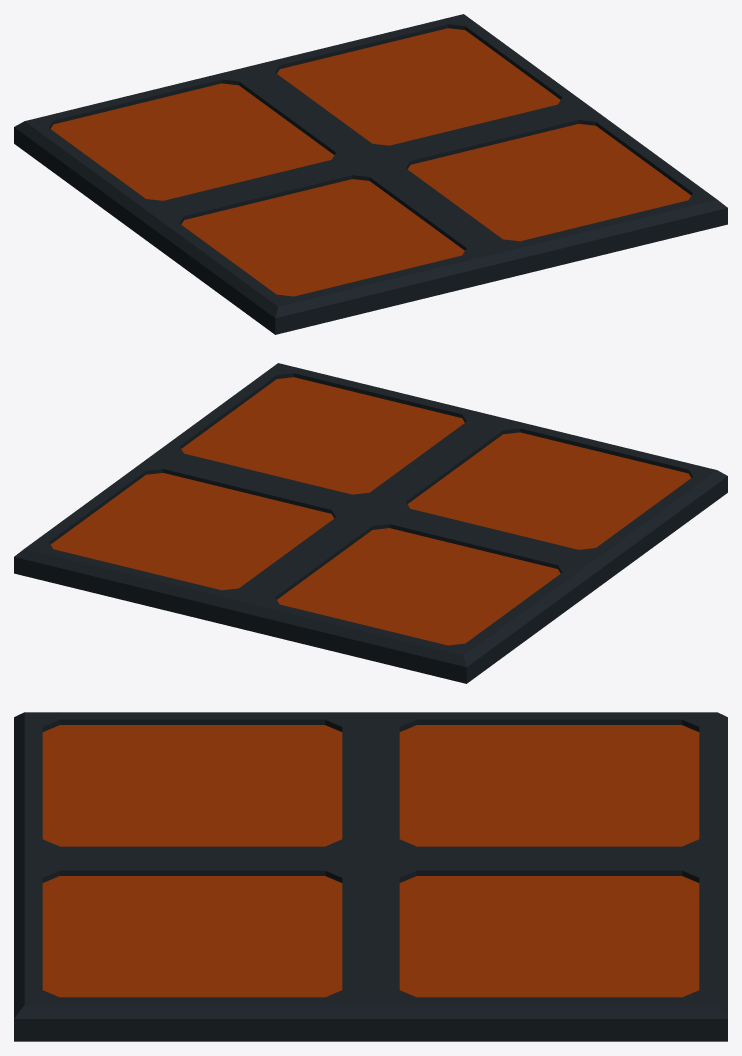
Rendered from SM_Floor.fbx.
The picture shows the model from 3 angles, top to bottom: view 1: azimuth 30°, elevation 25°; view 2: azimuth 150°, elevation 25°; view 3: azimuth 270°, elevation 25°; orthographic projection. The views are drawn at different scales.
Parts seen in each view (by area): view 1: Floor.001; view 2: Floor.001; view 3: Floor.001.
Boxes of the visible parts, x1,y1,x2,y2 form: Floor.001: (14, 14, 727, 334); Floor.001: (14, 363, 727, 683); Floor.001: (14, 712, 727, 1041).
Size of the model in its own units: 200 by 10 by 200.
